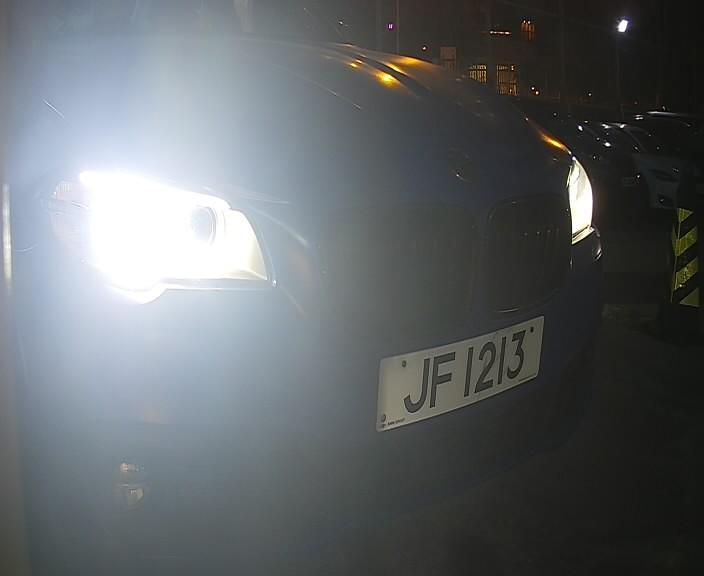Car: (1, 13, 648, 548)
License Plate: (374, 303, 545, 439)
